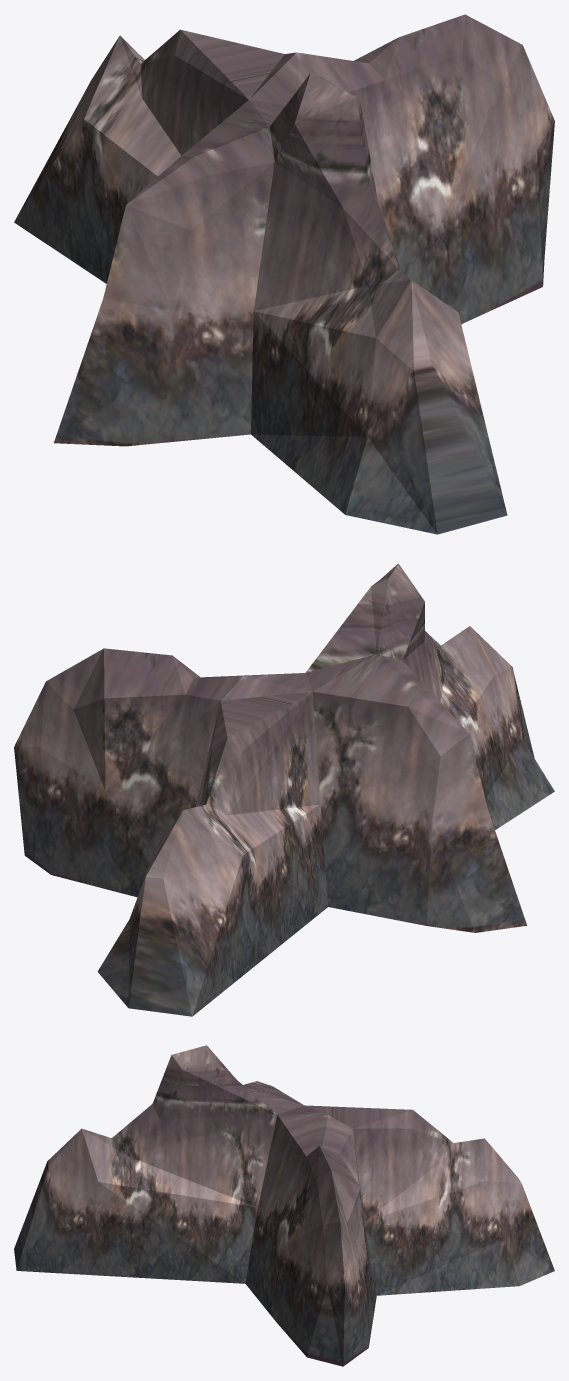
File: C4SMRUIN2_H.obj
3 renders of one model, top to bottom at view 1: azimuth 30°, elevation 25°; view 2: azimuth 150°, elevation 25°; view 3: azimuth 270°, elevation 25°, orthographic. The views are drawn at different scales.
Parts seen in each view (by area): view 1: Node 0; view 2: Node 0; view 3: Node 0.
Boxes of the visible parts, x1,y1,x2,y2 form: Node 0: (14, 14, 554, 534); Node 0: (14, 563, 554, 1016); Node 0: (14, 1045, 554, 1366).
Bounding box in the file's own units: 15.82 × 9.27 × 20.92.
1 material, 1 textured.
